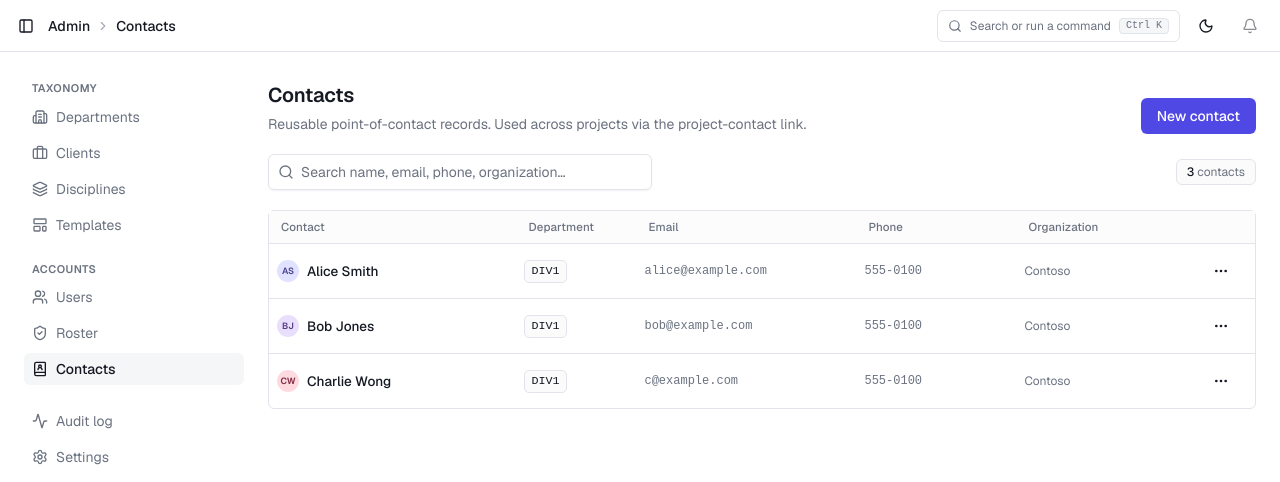
Test: ContactsManagePage › filters rows via the client-side search
Expected: the text "Alice Smith" is shown, [307,262,378,281]
Expected: the text "Bob Jones" is shown, [307,317,374,336]
Type "bob" into the field named "search contacts" at (460, 172), box [268,154,652,190]
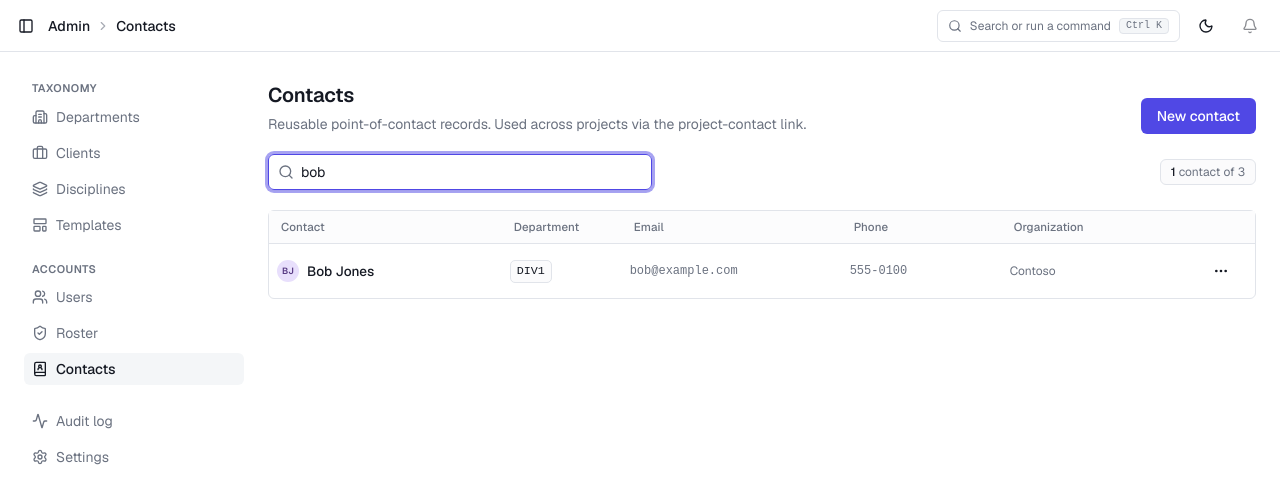
Expected: the text "Bob Jones" is shown, [307,262,374,281]
Now the text "Alice Smith" is gone
Now the text "Charlie Wong" is gone
